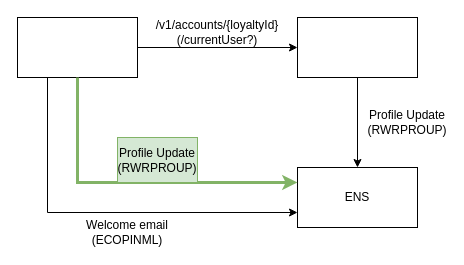
Image size: 464x265. Some labels were removed from this diagram. Each missing label, with the box of its shape:
az.com Profile page: (16, 16, 138, 78)
Loyalty Account Management Services: (296, 16, 418, 78)
